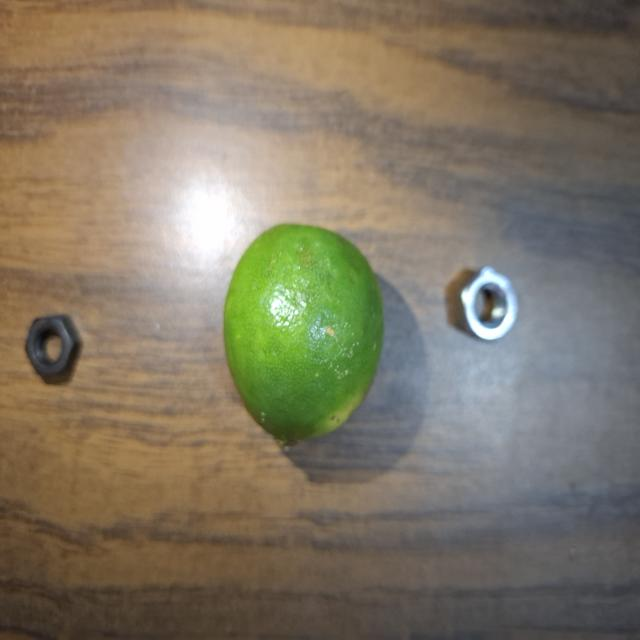limon: (218, 222, 387, 462)
milimetrico: (22, 306, 98, 400)
tuerca: (454, 256, 527, 349)
